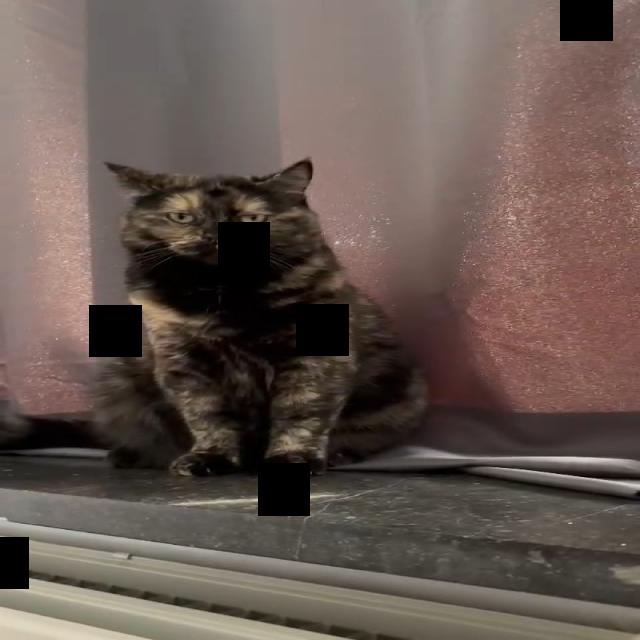authorized: (88, 155, 431, 478)
